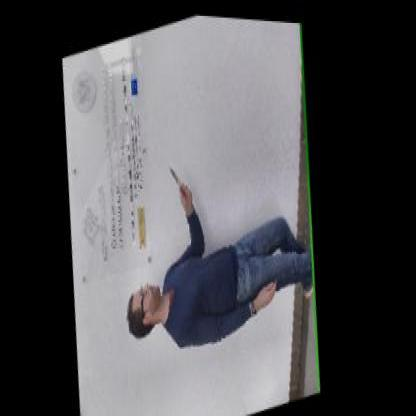knife: (166, 151, 195, 202)
